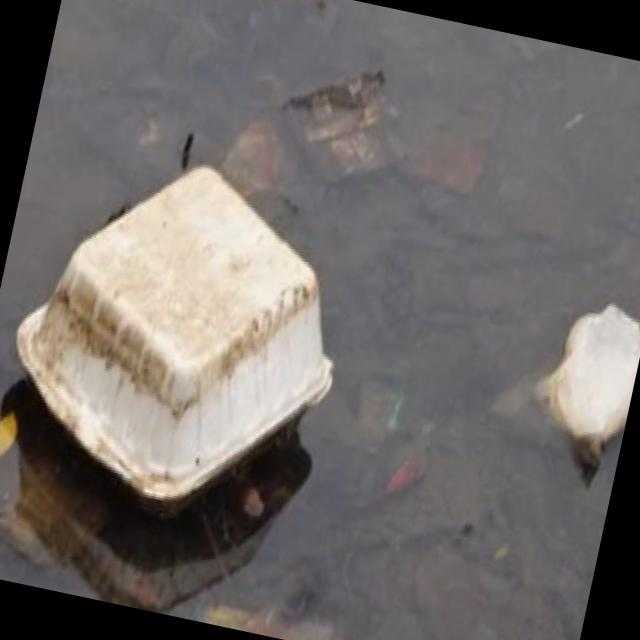electronic: (0, 124, 372, 547)
